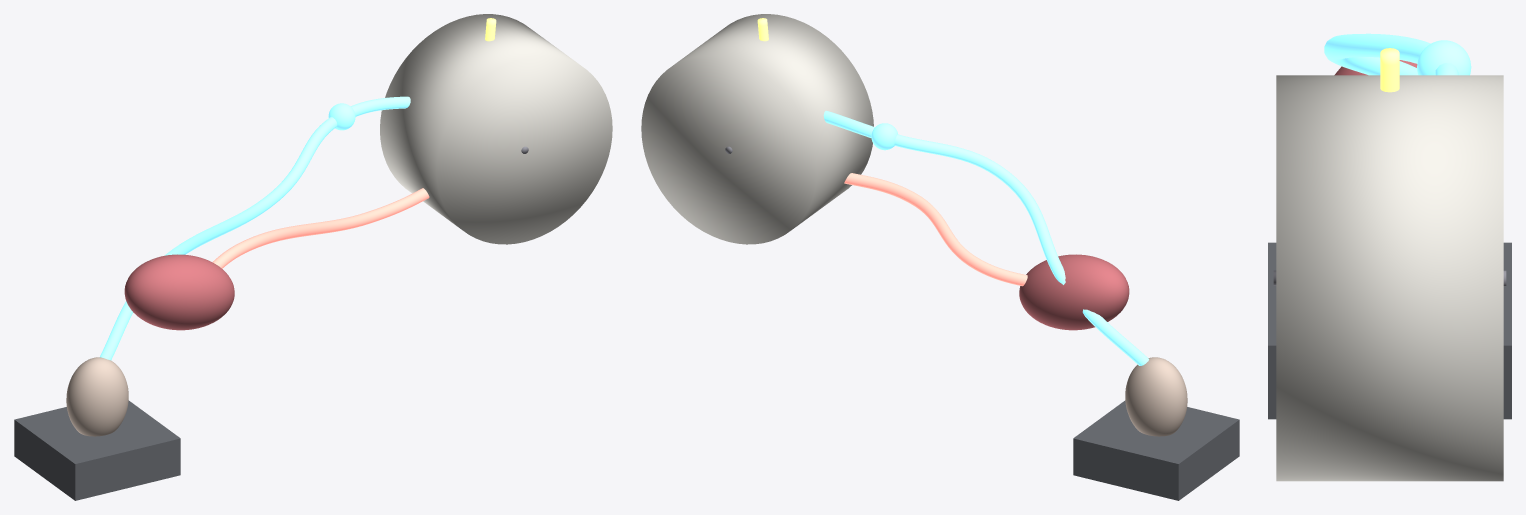
The model's file is reflex-arc.glb.
3 renders of one model, left to right at view 1: azimuth 30°, elevation 25°; view 2: azimuth 150°, elevation 25°; view 3: azimuth 270°, elevation 25°, orthographic. The views are drawn at different scales.
Parts seen in each view (by area): view 1: reflex-arc-cord-wm, reflex-arc-hot-object, reflex-arc-effector-muscle, reflex-arc-sensory-nerve, reflex-arc-finger-receptor, reflex-arc-motor-nerve; view 2: reflex-arc-cord-wm, reflex-arc-hot-object, reflex-arc-effector-muscle, reflex-arc-sensory-nerve, reflex-arc-finger-receptor, reflex-arc-motor-nerve; view 3: reflex-arc-cord-wm, reflex-arc-sensory-nerve, reflex-arc-hot-object, reflex-arc-drg, reflex-arc-message-to-brain.
Boxes of the visible parts, x1,y1,x2,y2 form: reflex-arc-cord-wm: (380, 14, 612, 244); reflex-arc-hot-object: (14, 400, 180, 500); reflex-arc-effector-muscle: (124, 254, 234, 330); reflex-arc-sensory-nerve: (100, 96, 410, 360); reflex-arc-finger-receptor: (66, 357, 128, 436); reflex-arc-motor-nerve: (212, 188, 429, 268); reflex-arc-cord-wm: (641, 14, 873, 244); reflex-arc-hot-object: (1073, 400, 1239, 500); reflex-arc-effector-muscle: (1019, 254, 1129, 330); reflex-arc-sensory-nerve: (823, 110, 1148, 365); reflex-arc-finger-receptor: (1125, 357, 1187, 436); reflex-arc-motor-nerve: (844, 173, 1027, 286); reflex-arc-cord-wm: (1276, 75, 1503, 481); reflex-arc-sensory-nerve: (1324, 33, 1458, 75); reflex-arc-hot-object: (1268, 242, 1511, 419); reflex-arc-drg: (1417, 40, 1471, 75); reflex-arc-message-to-brain: (1380, 48, 1399, 92).
Size of the model in its own units: 0.23 by 0.1427 by 0.045.
